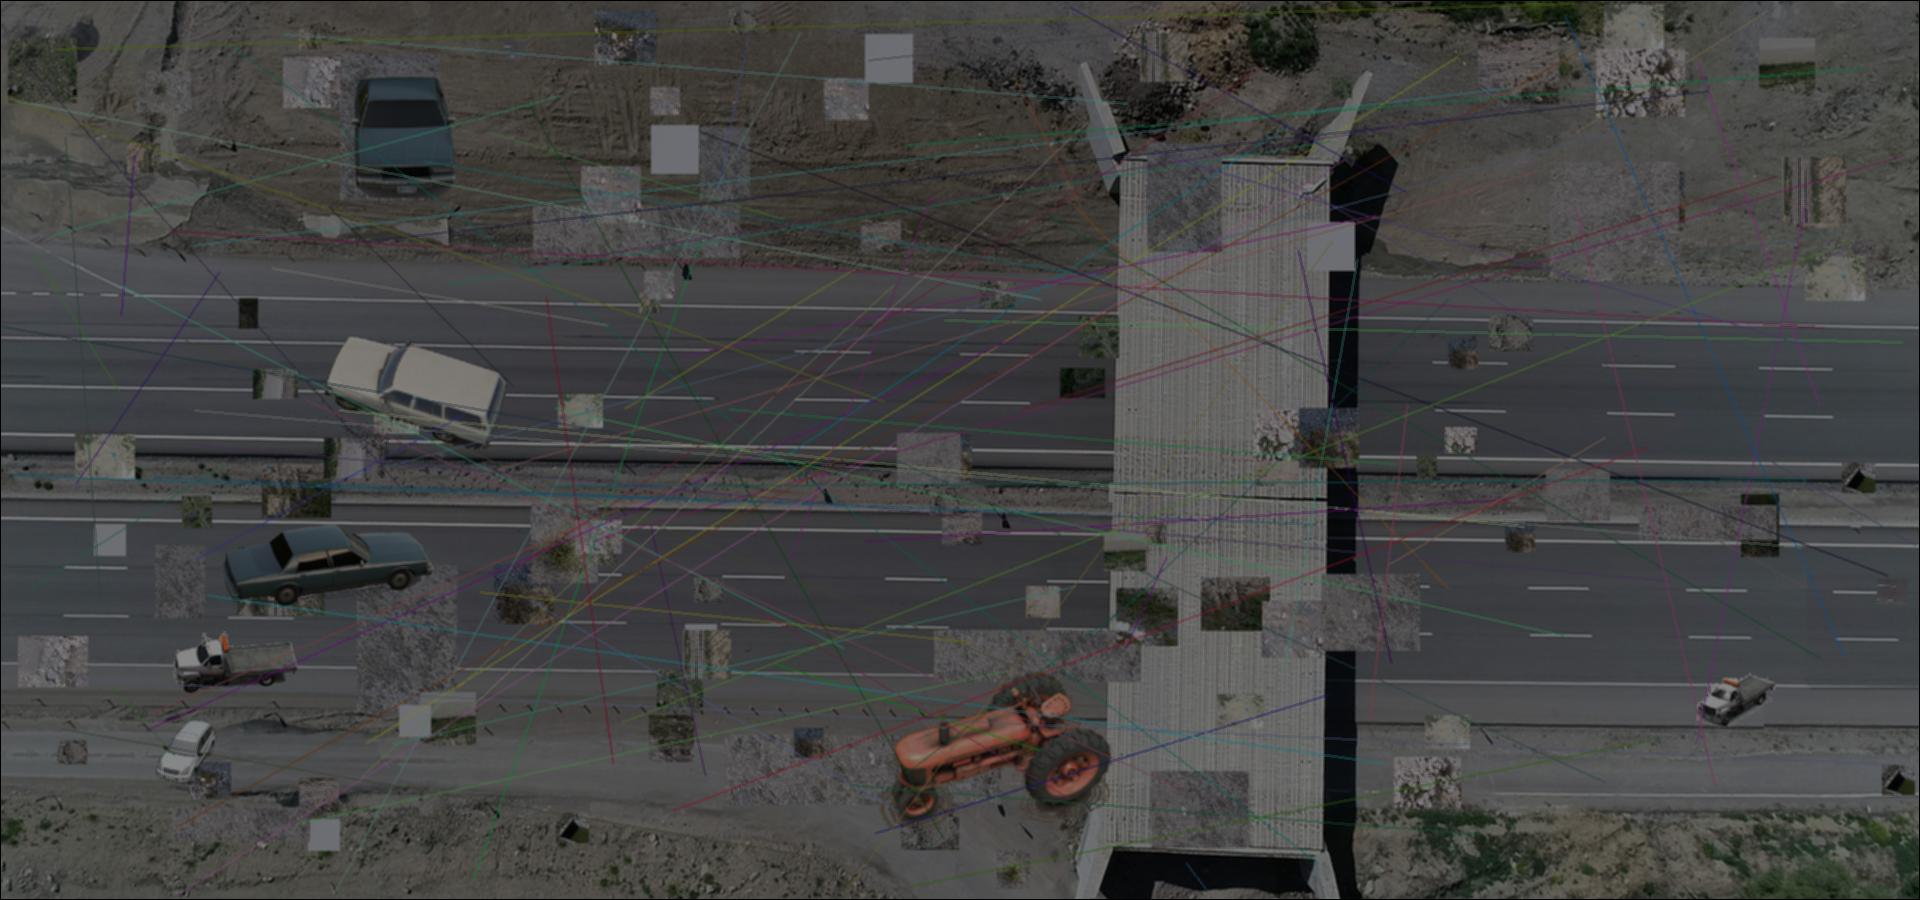arac: (878, 671, 1118, 828), (311, 331, 507, 456), (217, 523, 440, 607), (343, 73, 459, 198), (171, 631, 298, 693), (152, 718, 220, 790), (1697, 669, 1776, 727)
